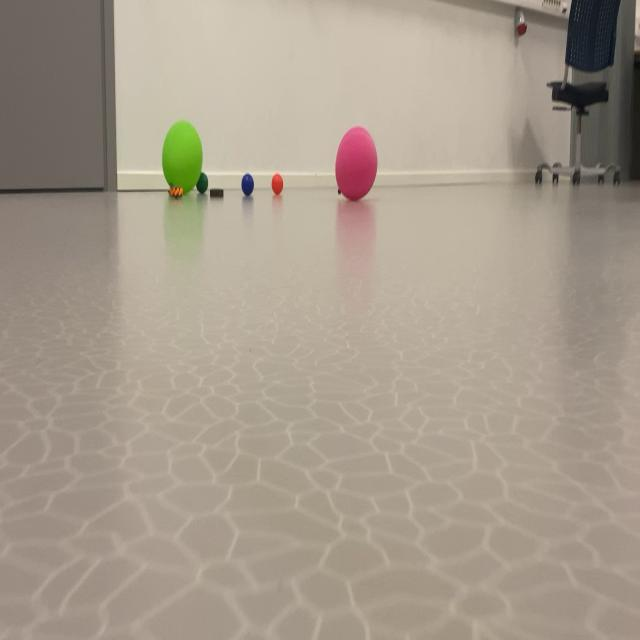7: (266, 165, 288, 210)
green ball: (237, 170, 261, 217)
red ball: (196, 168, 210, 197)
